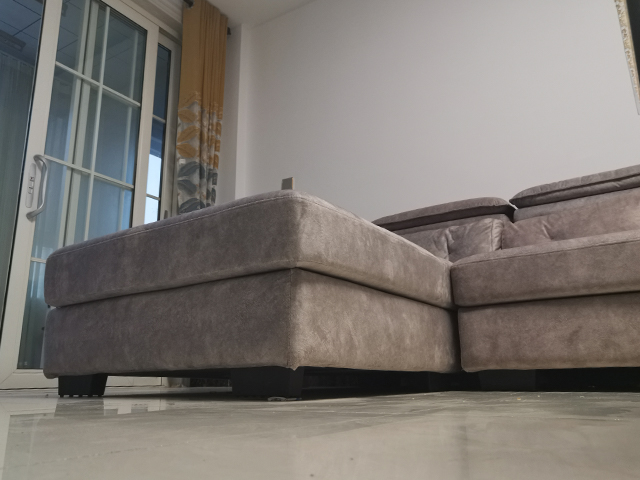curtain: (173, 1, 232, 211)
sofa: (40, 164, 640, 403)
